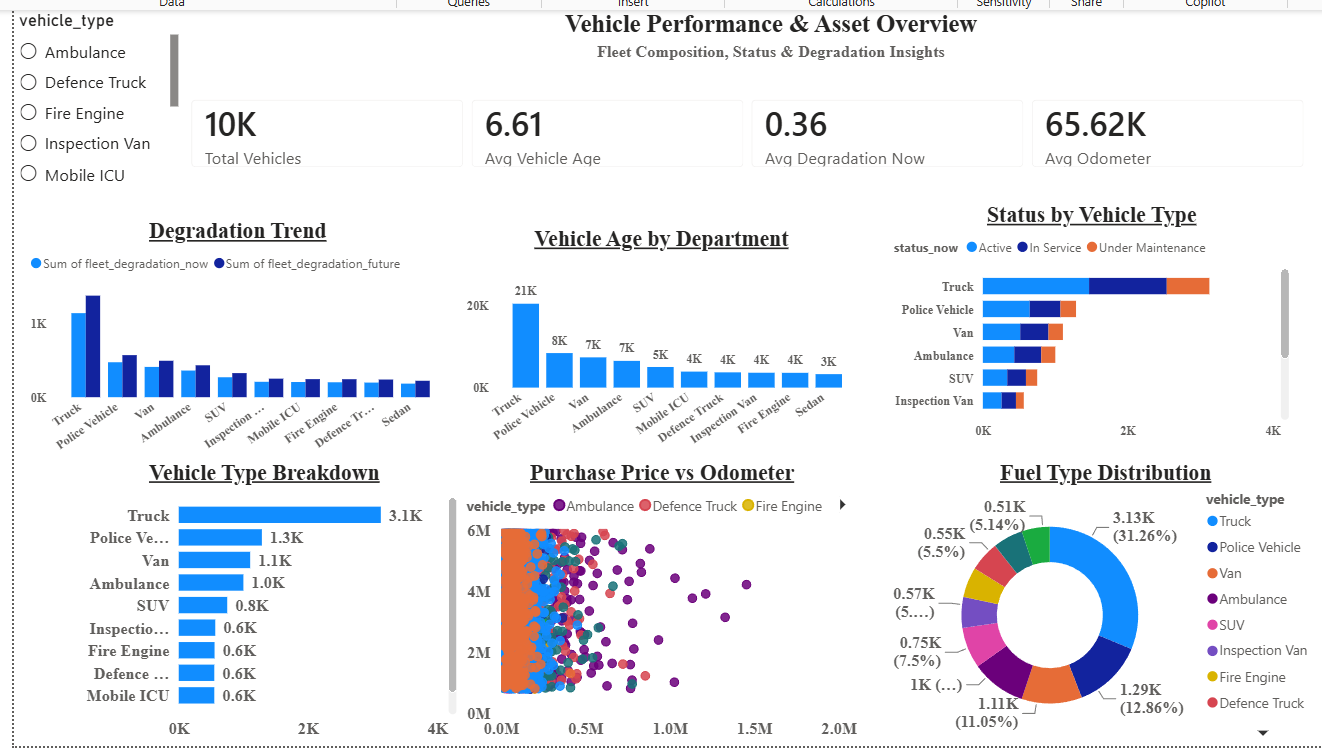

The dashboard page shown, as its layout file describes it:
{"tool":"powerbi","page":{"name":"vehicle","canvas":[1280,720],"ordinal":1},"visuals":[{"type":"clusteredBarChart","title":"Vehicle Type Breakdown","fields":{"Category":["vehicles.vehicle_type"],"Y":["CountNonNull(vehicles.vehicle_id)"]},"box":[50.8,440.5,387,279.9],"z":0},{"type":"barChart","title":"Status by Vehicle Type","fields":{"Category":["vehicles.vehicle_type"],"Y":["CountNonNull(vehicles.vehicle_id)"],"Series":["vehicles.status_now"]},"box":[856.3,188,396.6,238.8],"z":1000},{"type":"scatterChart","title":"Purchase Price vs Odometer","fields":{"X":["Sum(vehicles.odometer_km)"],"Series":["vehicles.vehicle_type"],"Y":["vehicles.purchase_price_inr"]},"box":[437.7,440.5,392.5,279.9],"z":2000},{"type":"donutChart","title":"Fuel Type Distribution","fields":{"Category":["vehicles.vehicle_type"],"Y":["CountNonNull(vehicles.fuel_type)"]},"box":[856.3,440.5,424,279.9],"z":3000},{"type":"columnChart","title":"Vehicle Age by Department","fields":{"Y":["Sum(vehicles.vehicle_age_yrs)"],"Category":["vehicles.vehicle_type"]},"box":[437.7,211.3,391.1,225],"z":4000},{"type":"clusteredColumnChart","title":"Degradation Trend","fields":{"Category":["vehicles.vehicle_type"],"Y":["Sum(vehicles.fleet_degradation_now)","Sum(vehicles.fleet_degradation_future)"]},"box":[11,204.5,415.8,238.8],"z":5000},{"type":"textbox","title":"Vehicle Performance & Asset Overview","box":[200.3,0,1079.9,59],"z":6000},{"type":"cardVisual","fields":{"Data":["vehicles.Total Vehicles","vehicles.Avg Vehicle Age","vehicles.Avg Degradation Now","vehicles.Avg Odometer"]},"box":[156.4,71.4,1123.8,100.2],"z":7000},{"type":"listSlicer","fields":{"Values":["vehicles.vehicle_type"]},"box":[0,0,166,174.3],"z":7001}]}

Visuals, with their boxes on the page's 1280x720 design canvas (x1, y1, x2, y2). These are canvas units, not pixel positions in the 1322x749 screenshot, which may show the page scaled, cropped or inside an application window:
"Vehicle Type Breakdown" clusteredBarChart: 51/440/438/720
"Status by Vehicle Type" barChart: 856/188/1253/427
"Purchase Price vs Odometer" scatterChart: 438/440/830/720
"Fuel Type Distribution" donutChart: 856/440/1280/720
"Vehicle Age by Department" columnChart: 438/211/829/436
"Degradation Trend" clusteredColumnChart: 11/204/427/443
"Vehicle Performance & Asset Overview" textbox: 200/0/1280/59
cardVisual - vehicles.Total Vehicles x vehicles.Avg Vehicle Age: 156/71/1280/172
listSlicer - vehicles.vehicle_type: 0/0/166/174
